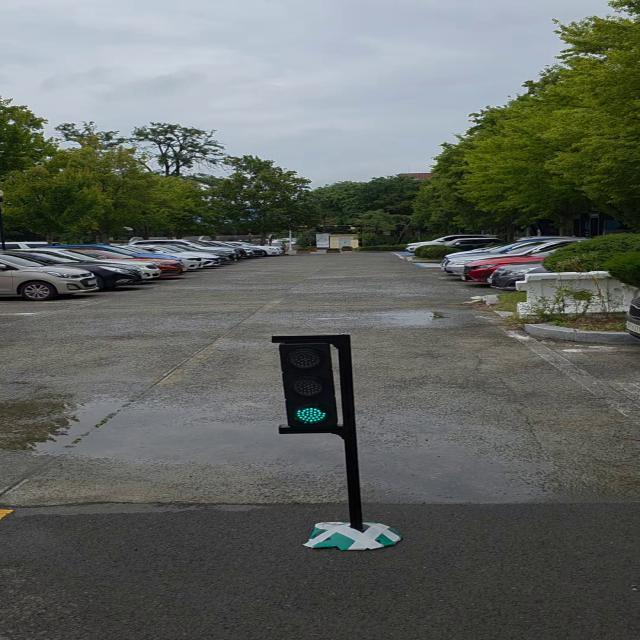green: (280, 334, 347, 431)
